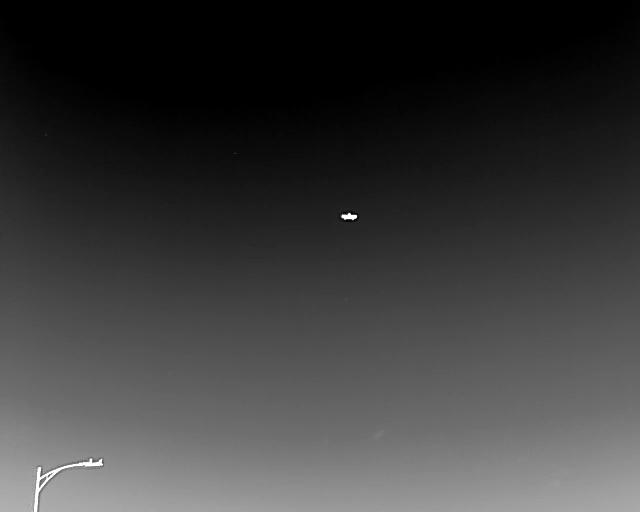fpv-drone: (340, 211, 358, 221)
